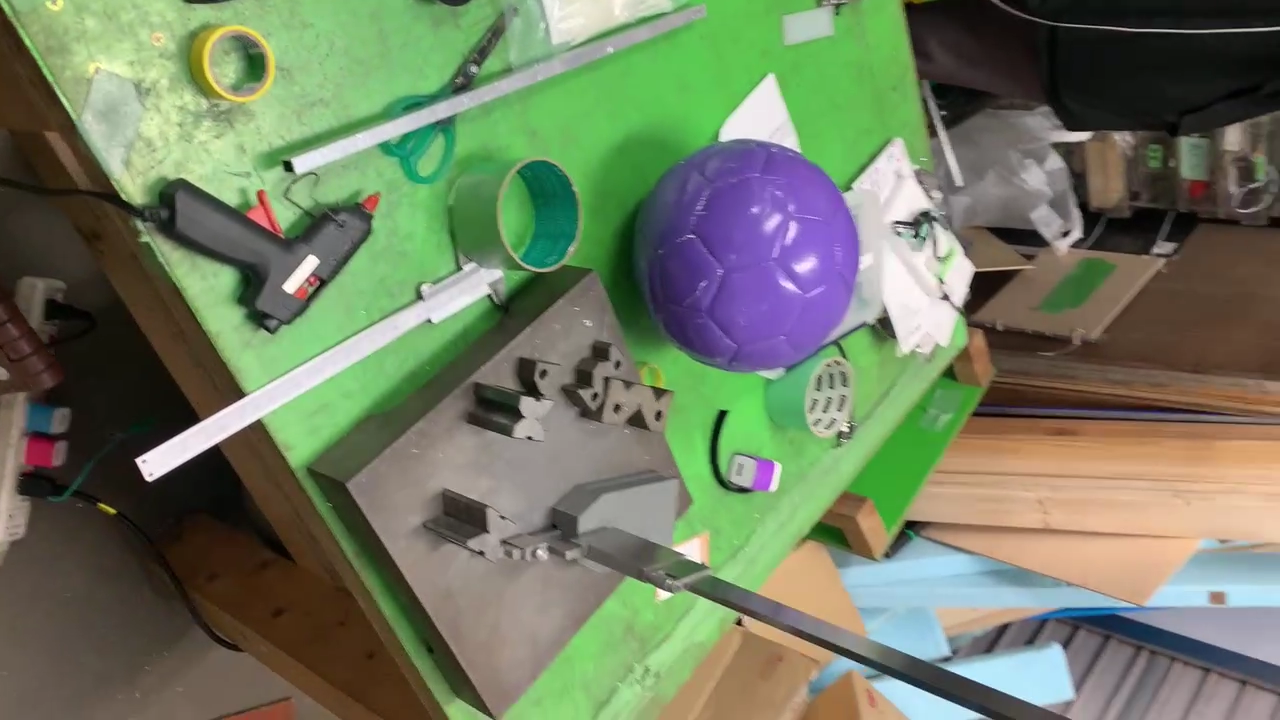purple: (637, 141, 858, 375)
